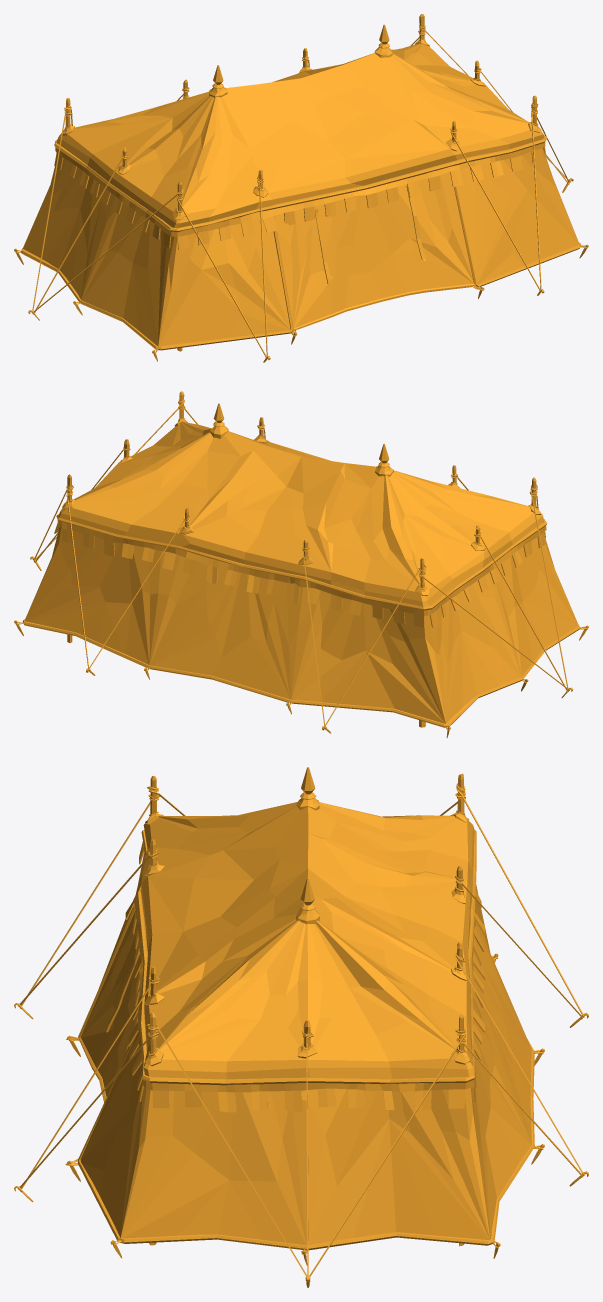
File: SM_Tent_Royal_Plain_Closed_Fantasy.fbx
3 views of the same model, one above another, from view 1: azimuth 30°, elevation 25°; view 2: azimuth 150°, elevation 25°; view 3: azimuth 270°, elevation 25° (orthographic). The views are drawn at different scales.
Visible parts, largest first — view 1: tent-royal-plain-closed-fantasy; view 2: tent-royal-plain-closed-fantasy; view 3: tent-royal-plain-closed-fantasy.
Boxes of the visible parts, x1,y1,x2,y2 form: tent-royal-plain-closed-fantasy: [14, 14, 588, 362]; tent-royal-plain-closed-fantasy: [14, 391, 588, 737]; tent-royal-plain-closed-fantasy: [14, 767, 588, 1287].
Size of the model in its own units: 13.65 by 5.31 by 9.11.
